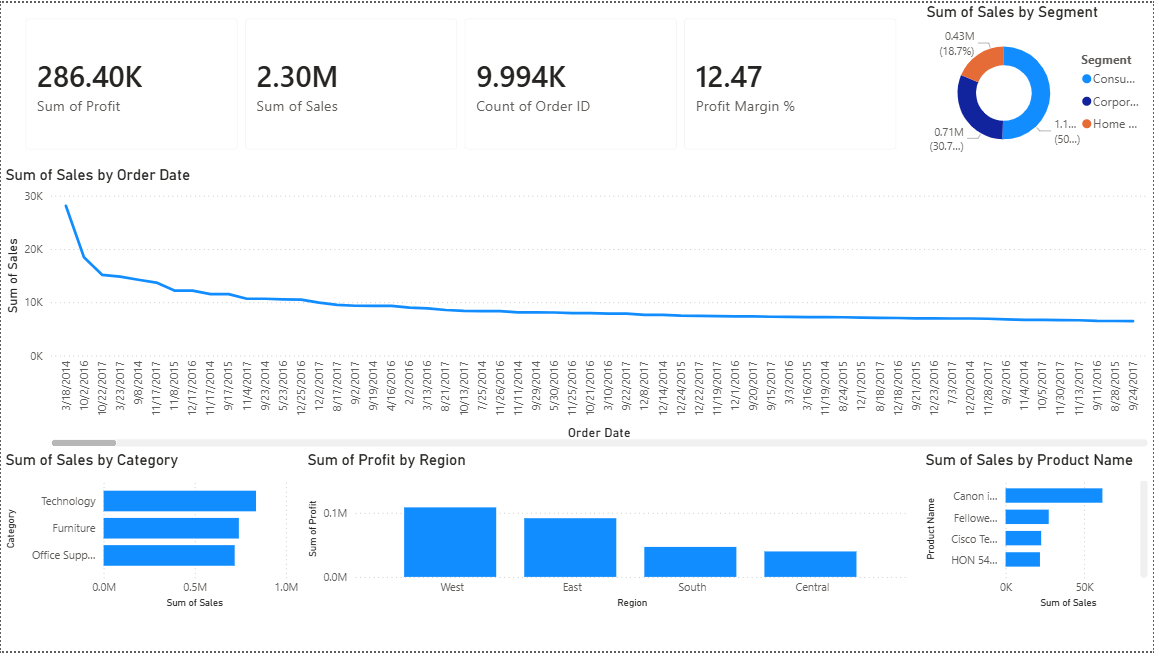

The dashboard page shown, as its layout file describes it:
{"tool":"powerbi","page":{"name":"Page 1","canvas":[1280,720],"ordinal":0},"visuals":[{"type":"cardVisual","fields":{"Data":["Sum(Sample - Superstore.Profit)","Sum(Sample - Superstore.Sales)","CountNonNull(Sample - Superstore.Order ID)","Sample - Superstore.Profit Margin %"]},"box":[9.7,0,1002.8,180.9],"z":0},{"type":"lineChart","fields":{"Y":["Sum(Sample - Superstore.Sales)"],"Category":["Sample - Superstore.Order Date"]},"box":[0,181.1,1278.9,316.7],"z":1000},{"type":"clusteredBarChart","fields":{"Category":["Sample - Superstore.Category"],"Y":["Sum(Sample - Superstore.Sales)"]},"box":[0,497.8,335.6,178.9],"z":2000},{"type":"clusteredColumnChart","fields":{"Category":["Sample - Superstore.Region"],"Y":["Sum(Sample - Superstore.Profit)"]},"box":[335.6,497.8,677.8,178.9],"z":3000},{"type":"donutChart","fields":{"Category":["Sample - Superstore.Segment"],"Y":["Sum(Sample - Superstore.Sales)"]},"box":[1023,0,257,181],"z":4000},{"type":"barChart","fields":{"Category":["Sample - Superstore.Product Name"],"Y":["Sum(Sample - Superstore.Sales)"]},"box":[1022.2,497.8,256.7,178.9],"z":5000}]}

Visuals, with their boxes in screenshot pixels (x1, y1, x2, y2), scaled from the page's 1280x720 canvas onto the 1154x654 screenshot:
cardVisual - Sum(Sample - Superstore.Profit) x Sum(Sample - Superstore.Sales): bbox=(9, 0, 913, 164)
lineChart - Sum(Sample - Superstore.Sales) x Sample - Superstore.Order Date: bbox=(0, 164, 1153, 452)
clusteredBarChart - Sample - Superstore.Category x Sum(Sample - Superstore.Sales): bbox=(0, 452, 303, 615)
clusteredColumnChart - Sample - Superstore.Region x Sum(Sample - Superstore.Profit): bbox=(303, 452, 914, 615)
donutChart - Sample - Superstore.Segment x Sum(Sample - Superstore.Sales): bbox=(922, 0, 1153, 164)
barChart - Sample - Superstore.Product Name x Sum(Sample - Superstore.Sales): bbox=(922, 452, 1153, 615)
